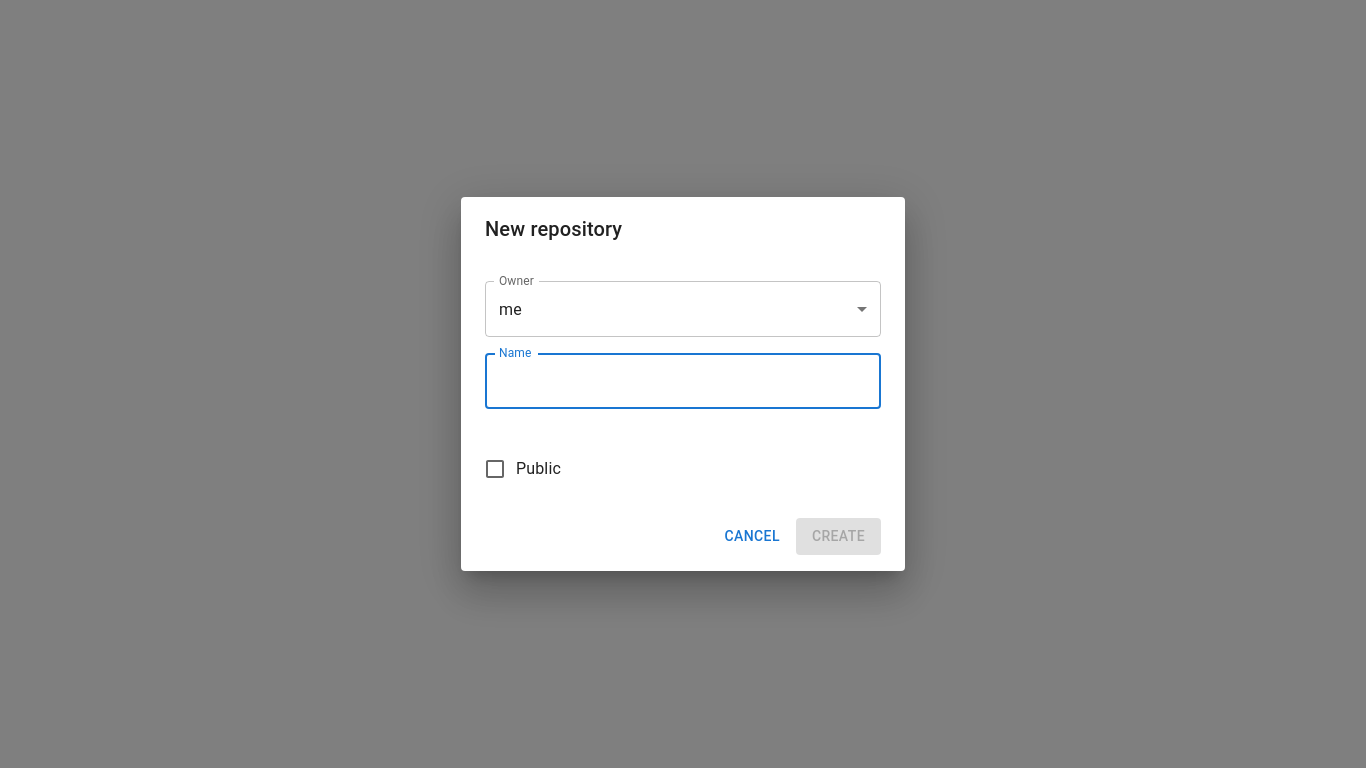
NewRepositoryDialog › refuses a name that already exists and keeps Create off
Type "shop" into the field labelled "Name" at [683, 381], box [485,353,881,409]
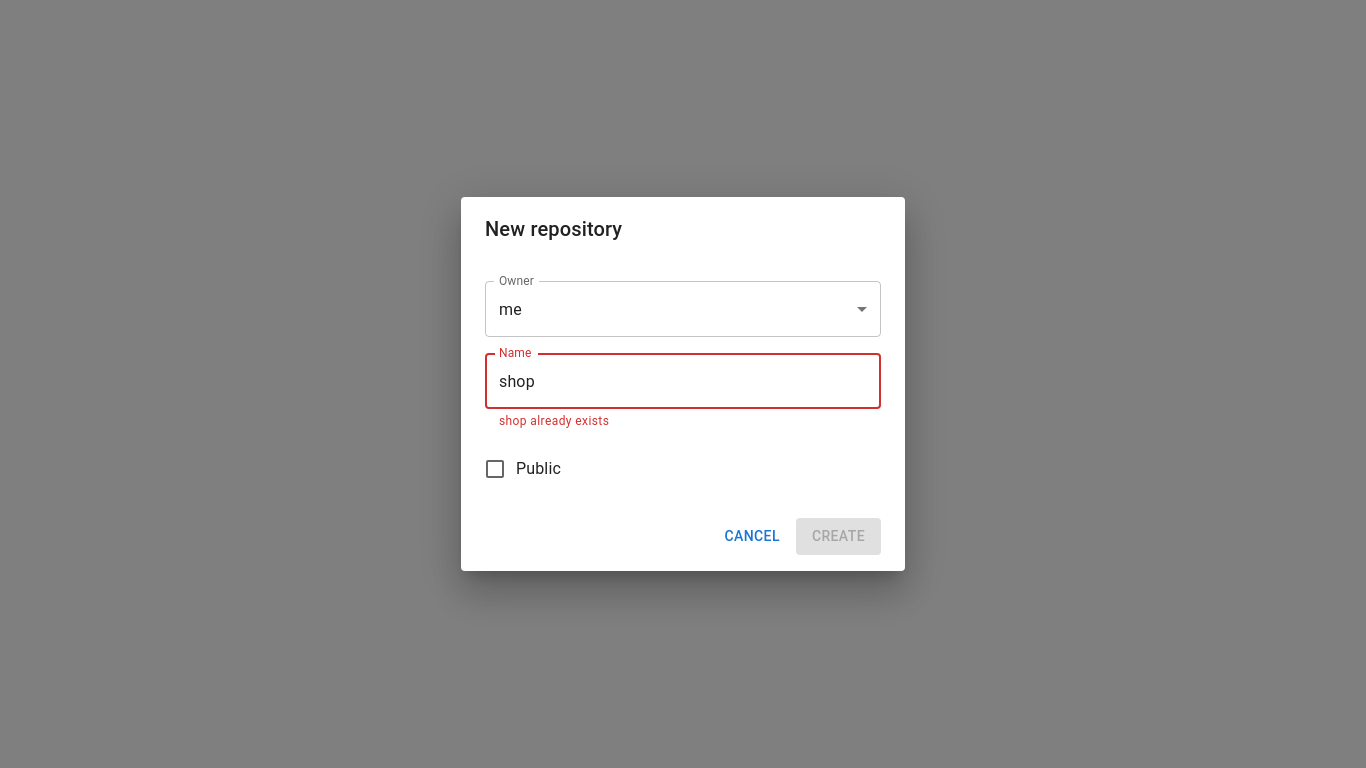
Expected: the button "Create" is disabled, [796,518,881,555]
Now the text "shop already exists" is shown, box [499,414,609,428]
